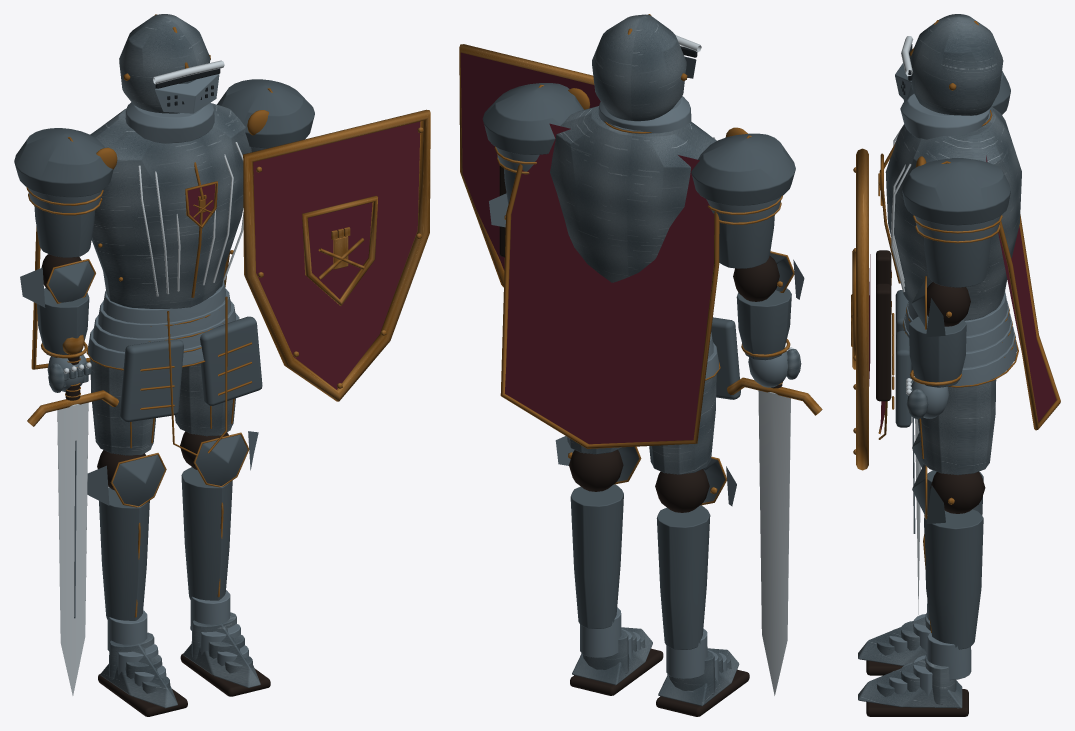
The model's file is courtyard-warden-v002.glb.
The picture shows the model from 3 angles, left to right: view 1: azimuth 30°, elevation 25°; view 2: azimuth 150°, elevation 25°; view 3: azimuth 270°, elevation 25°; orthographic projection. The views are drawn at different scales.
Parts seen in each view (by area): view 1: hand.L.001-forged-geometry, spine.001-forged-geometry, hips.001-forged-geometry, head.001-forged-geometry, hand.R.001-forged-geometry, upperArm.R.001-forged-geometry, shin.R.001-forged-geometry, shin.L.001-forged-geometry, foot.R.001-forged-geometry, foot.L.001-forged-geometry, forearm.R.001-forged-geometry, upperArm.L.001-forged-geometry (+2 smaller); view 2: spine.001-forged-geometry, hand.R.001-forged-geometry, head.001-forged-geometry, upperArm.R.001-forged-geometry, shin.R.001-forged-geometry, shin.L.001-forged-geometry, hand.L.001-forged-geometry, upperArm.L.001-forged-geometry, forearm.R.001-forged-geometry, foot.L.001-forged-geometry, foot.R.001-forged-geometry, thigh.R.001-forged-geometry (+1 smaller); view 3: spine.001-forged-geometry, head.001-forged-geometry, upperArm.L.001-forged-geometry, shin.L.001-forged-geometry, hand.L.001-forged-geometry, hips.001-forged-geometry, foot.L.001-forged-geometry, thigh.L.001-forged-geometry, forearm.L.001-forged-geometry, foot.R.001-forged-geometry, hand.R.001-forged-geometry, upperArm.R.001-forged-geometry (+1 smaller).
Boxes of the visible parts, x1=… form: hand.L.001-forged-geometry: x1=243, y1=109, x2=430, y2=401; spine.001-forged-geometry: x1=31, y1=103, x2=268, y2=369; hips.001-forged-geometry: x1=86, y1=280, x2=262, y2=455; head.001-forged-geometry: x1=119, y1=14, x2=224, y2=143; hand.R.001-forged-geometry: x1=27, y1=335, x2=118, y2=695; upperArm.R.001-forged-geometry: x1=14, y1=128, x2=113, y2=257; shin.R.001-forged-geometry: x1=87, y1=450, x2=166, y2=620; shin.L.001-forged-geometry: x1=180, y1=431, x2=258, y2=600; foot.R.001-forged-geometry: x1=98, y1=610, x2=187, y2=716; foot.L.001-forged-geometry: x1=180, y1=590, x2=270, y2=696; forearm.R.001-forged-geometry: x1=20, y1=254, x2=95, y2=357; upperArm.L.001-forged-geometry: x1=217, y1=79, x2=314, y2=152; spine.001-forged-geometry: x1=500, y1=88, x2=747, y2=448; hand.R.001-forged-geometry: x1=727, y1=339, x2=822, y2=695; head.001-forged-geometry: x1=592, y1=14, x2=701, y2=133; upperArm.R.001-forged-geometry: x1=691, y1=133, x2=795, y2=268; shin.R.001-forged-geometry: x1=655, y1=456, x2=736, y2=649; shin.L.001-forged-geometry: x1=555, y1=436, x2=641, y2=628; hand.L.001-forged-geometry: x1=459, y1=44, x2=600, y2=287; upperArm.L.001-forged-geometry: x1=482, y1=83, x2=583, y2=204; forearm.R.001-forged-geometry: x1=733, y1=251, x2=804, y2=360; foot.L.001-forged-geometry: x1=570, y1=607, x2=663, y2=695; foot.R.001-forged-geometry: x1=656, y1=628, x2=749, y2=716; thigh.R.001-forged-geometry: x1=649, y1=374, x2=716, y2=474; spine.001-forged-geometry: x1=878, y1=106, x2=1060, y2=430; head.001-forged-geometry: x1=895, y1=14, x2=1003, y2=139; upperArm.L.001-forged-geometry: x1=902, y1=158, x2=1010, y2=287; shin.L.001-forged-geometry: x1=912, y1=464, x2=985, y2=649; hand.L.001-forged-geometry: x1=851, y1=148, x2=961, y2=470; hips.001-forged-geometry: x1=878, y1=270, x2=1018, y2=439; foot.L.001-forged-geometry: x1=858, y1=632, x2=971, y2=716; thigh.L.001-forged-geometry: x1=917, y1=379, x2=996, y2=475; forearm.L.001-forged-geometry: x1=909, y1=276, x2=970, y2=387; foot.R.001-forged-geometry: x1=858, y1=600, x2=930, y2=675; hand.R.001-forged-geometry: x1=912, y1=376, x2=920, y2=614; upperArm.R.001-forged-geometry: x1=904, y1=71, x2=1010, y2=114.
Size of the model in its own units: 1.16 by 1.94 by 0.5507.
7 materials, 2 textured.
